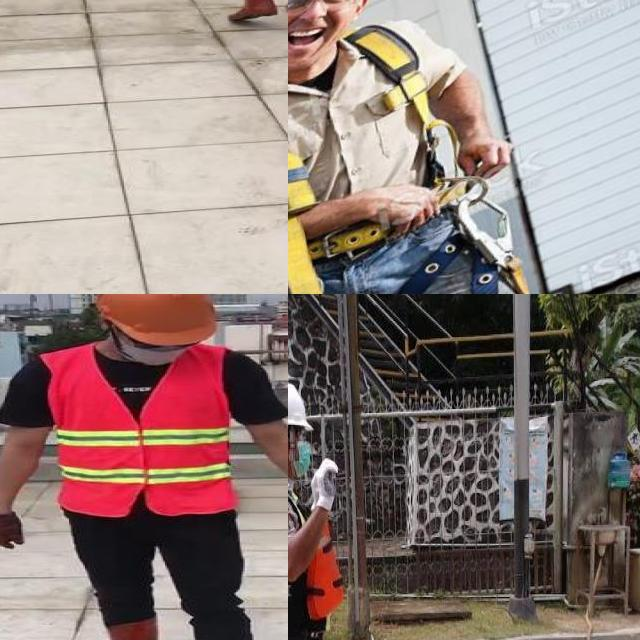Harness: (288, 18, 525, 294)
boots: (95, 617, 165, 640), (225, 0, 278, 22)
hand_glove: (0, 509, 24, 550)
head_helmet: (89, 294, 224, 349), (288, 382, 314, 434)
person: (0, 294, 288, 640), (288, 369, 379, 640)
vest: (44, 344, 238, 514), (288, 476, 343, 616)
